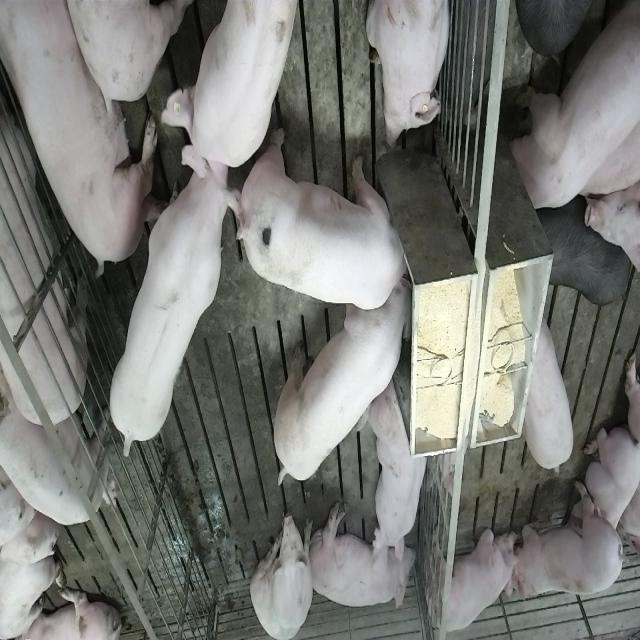Feeding: (243, 126, 418, 310), (268, 280, 411, 494)
Lateral_lying: (4, 0, 158, 274), (307, 500, 417, 614)
Sitting: (250, 503, 314, 638)
Standing: (108, 129, 246, 457), (0, 34, 90, 438), (508, 4, 638, 218), (154, 1, 294, 172), (0, 385, 112, 533), (538, 194, 630, 308), (524, 318, 578, 478)
Sternal_lying: (512, 486, 626, 610), (362, 376, 432, 562), (366, 0, 452, 151), (576, 428, 638, 556)
